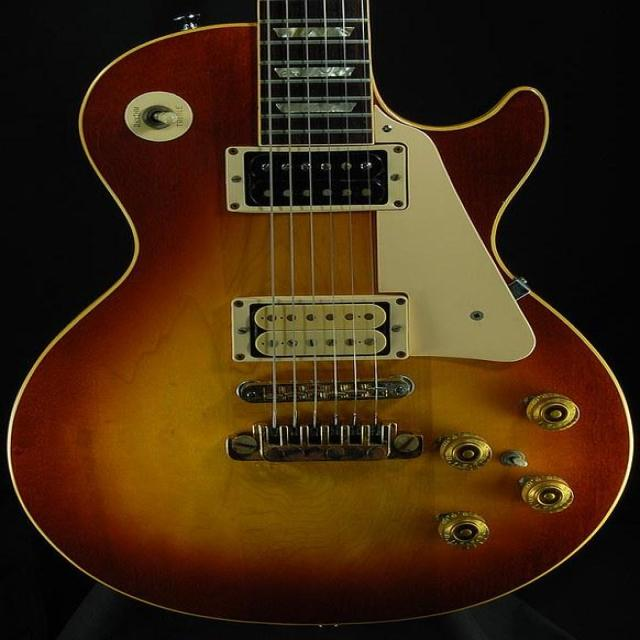guitar: (11, 2, 629, 622)
